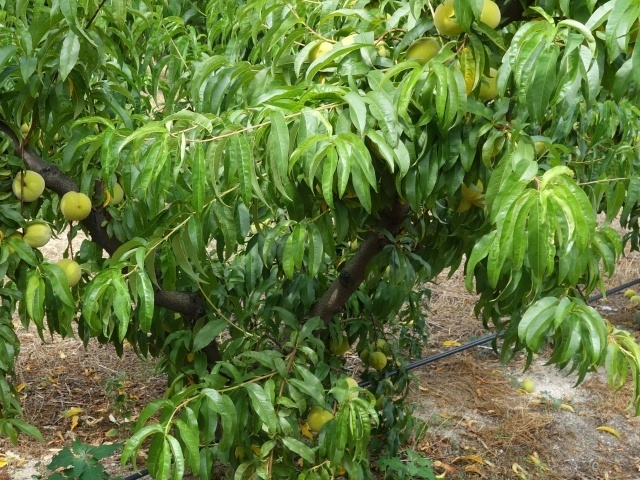peach: (8, 166, 48, 205), (57, 188, 95, 225), (405, 31, 442, 68), (431, 1, 469, 37), (469, 1, 503, 35), (476, 64, 505, 103), (19, 218, 53, 250), (48, 253, 80, 287), (303, 401, 336, 432), (456, 178, 488, 206), (341, 373, 364, 401), (103, 183, 126, 207), (366, 349, 387, 370)
